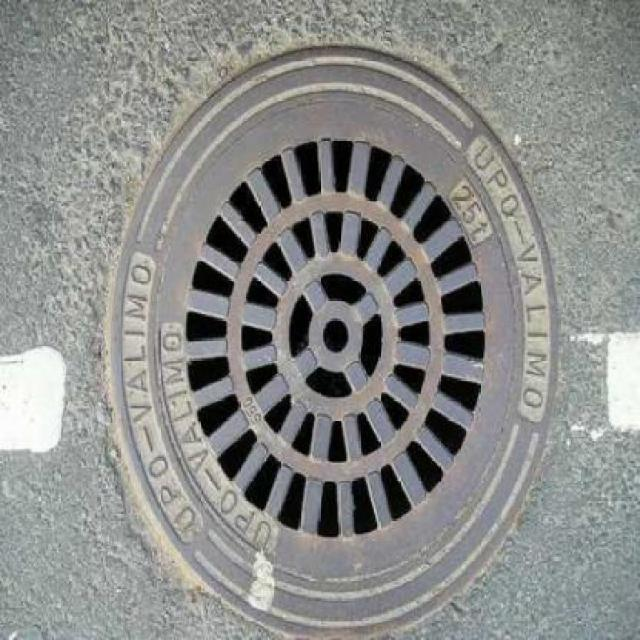Manhole: (92, 31, 570, 640)
